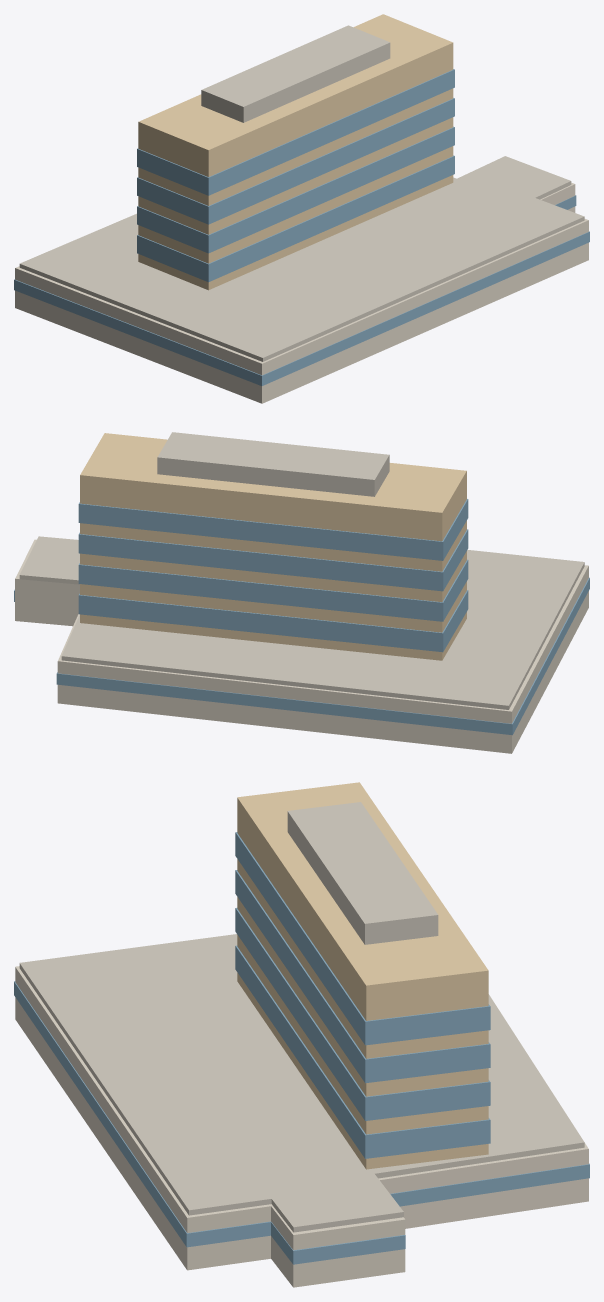
Rendered from novotel_max.glb.
3 renders of one model, top to bottom at view 1: azimuth 30°, elevation 25°; view 2: azimuth 150°, elevation 25°; view 3: azimuth 270°, elevation 25°, orthographic. The views are drawn at different scales.
Visible parts, largest first — view 1: part; view 2: part; view 3: part.
Part boxes in pixels (x1,y1,x2,y2): part: (14,14,589,403); part: (14,432,589,753); part: (14,782,589,1287).
Size of the model in its own units: 133 by 50 by 99.33.
